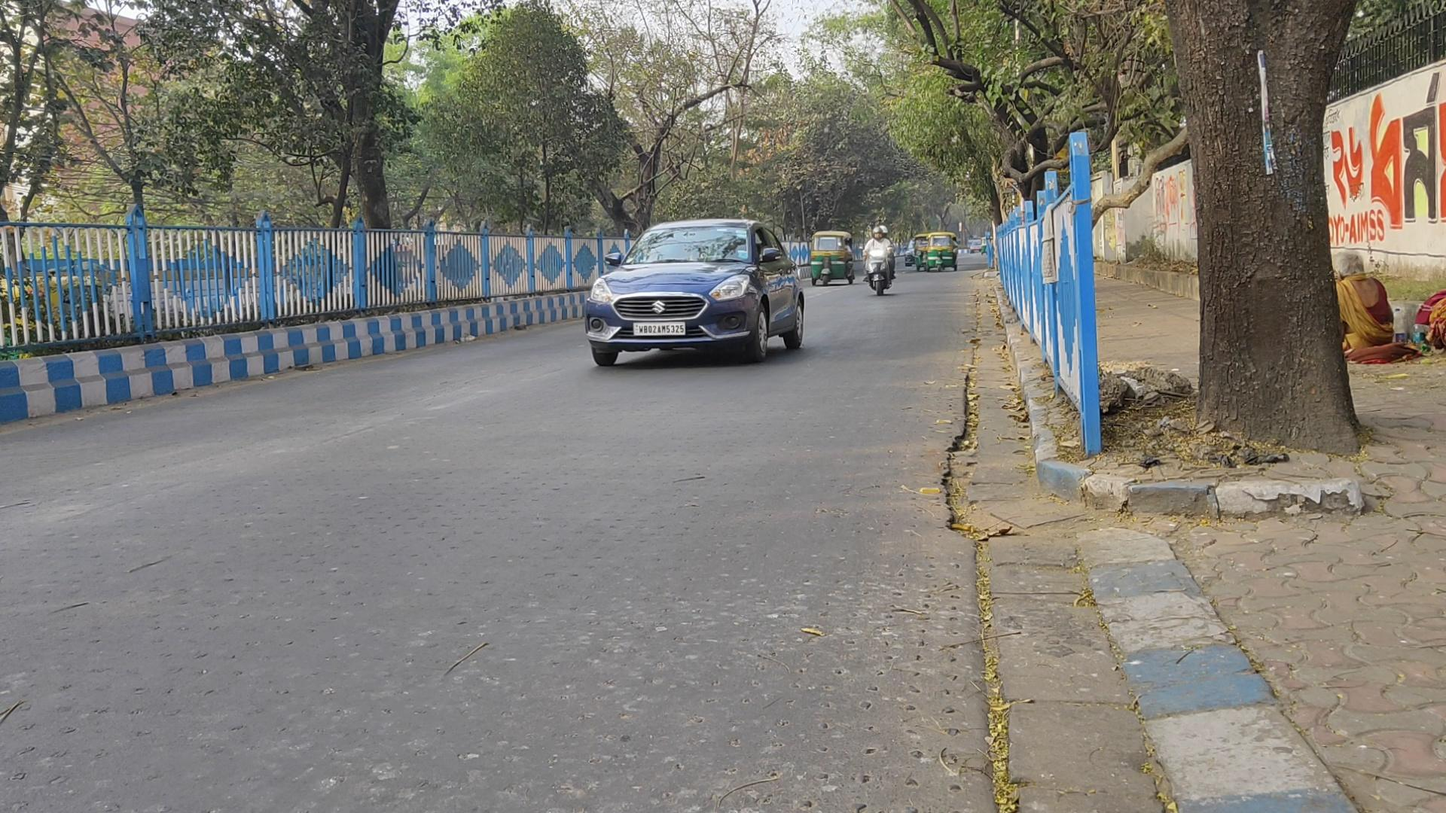Auto: (810, 231, 855, 285), (926, 232, 958, 273), (913, 233, 938, 273)
bike: (862, 226, 896, 296)
car: (584, 218, 805, 367)
